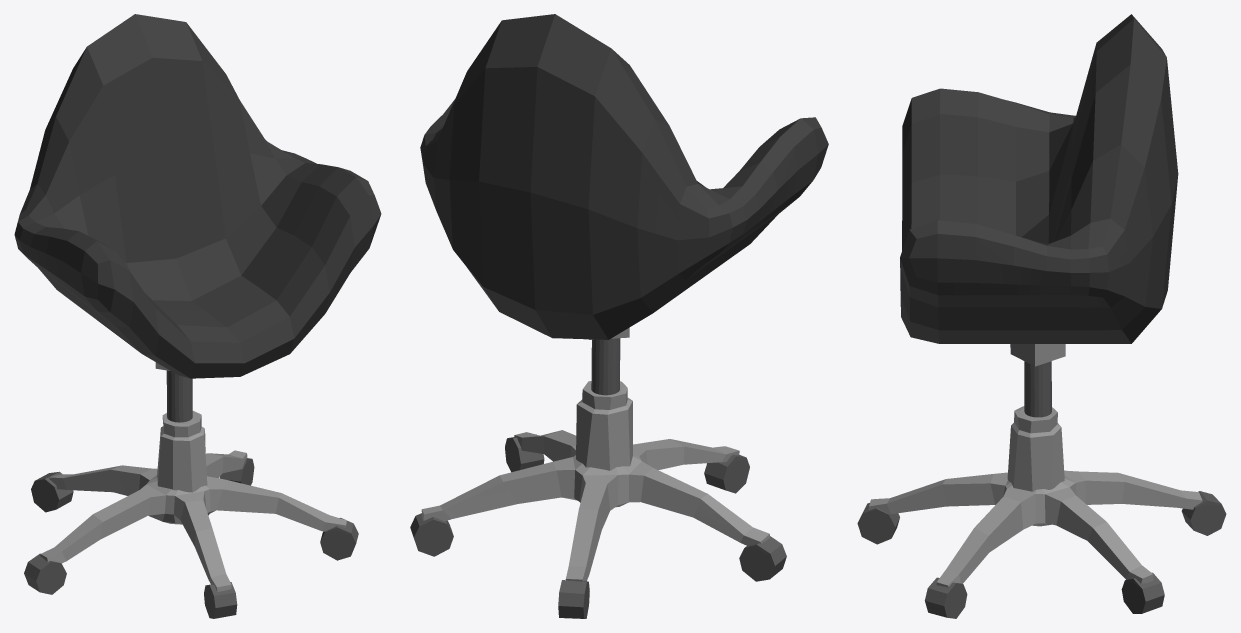
Rendered from Chair_7_231109.glb.
3 renders of one model, left to right at view 1: azimuth 30°, elevation 25°; view 2: azimuth 150°, elevation 25°; view 3: azimuth 270°, elevation 25°, orthographic. The views are drawn at different scales.
Visible parts, largest first — view 1: Chair_7; view 2: Chair_7; view 3: Chair_7.
Part boxes in pixels (x1=…): Chair_7: x1=14, y1=14, x2=381, y2=618; Chair_7: x1=410, y1=14, x2=828, y2=618; Chair_7: x1=857, y1=14, x2=1226, y2=618.
Size of the model in its own units: 0.7533 by 1.22 by 0.7546.
Materials: 1 (1 with a texture image).
